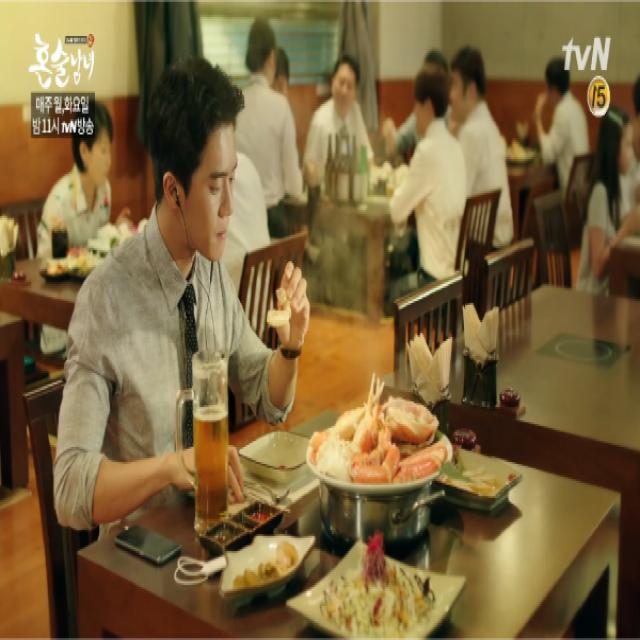eating-person: (51, 49, 313, 560)
